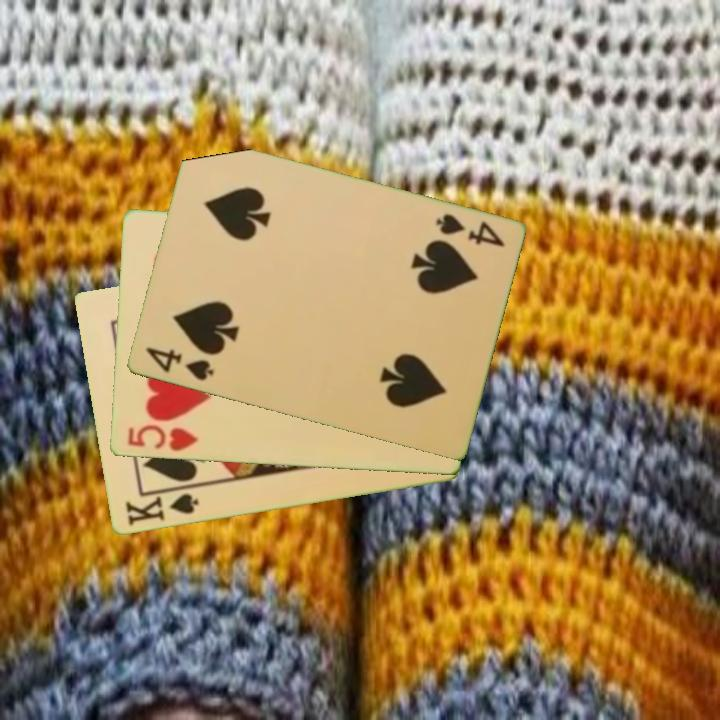4s: (431, 210, 507, 251), (141, 344, 216, 384)
5h: (124, 421, 201, 454)
Ks: (121, 490, 201, 529)
